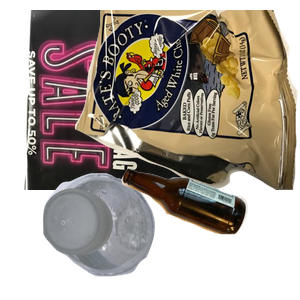glass: (119, 166, 300, 300)
paper: (22, 10, 225, 190)
plastic: (40, 170, 187, 300)
trash: (75, 10, 300, 190)
